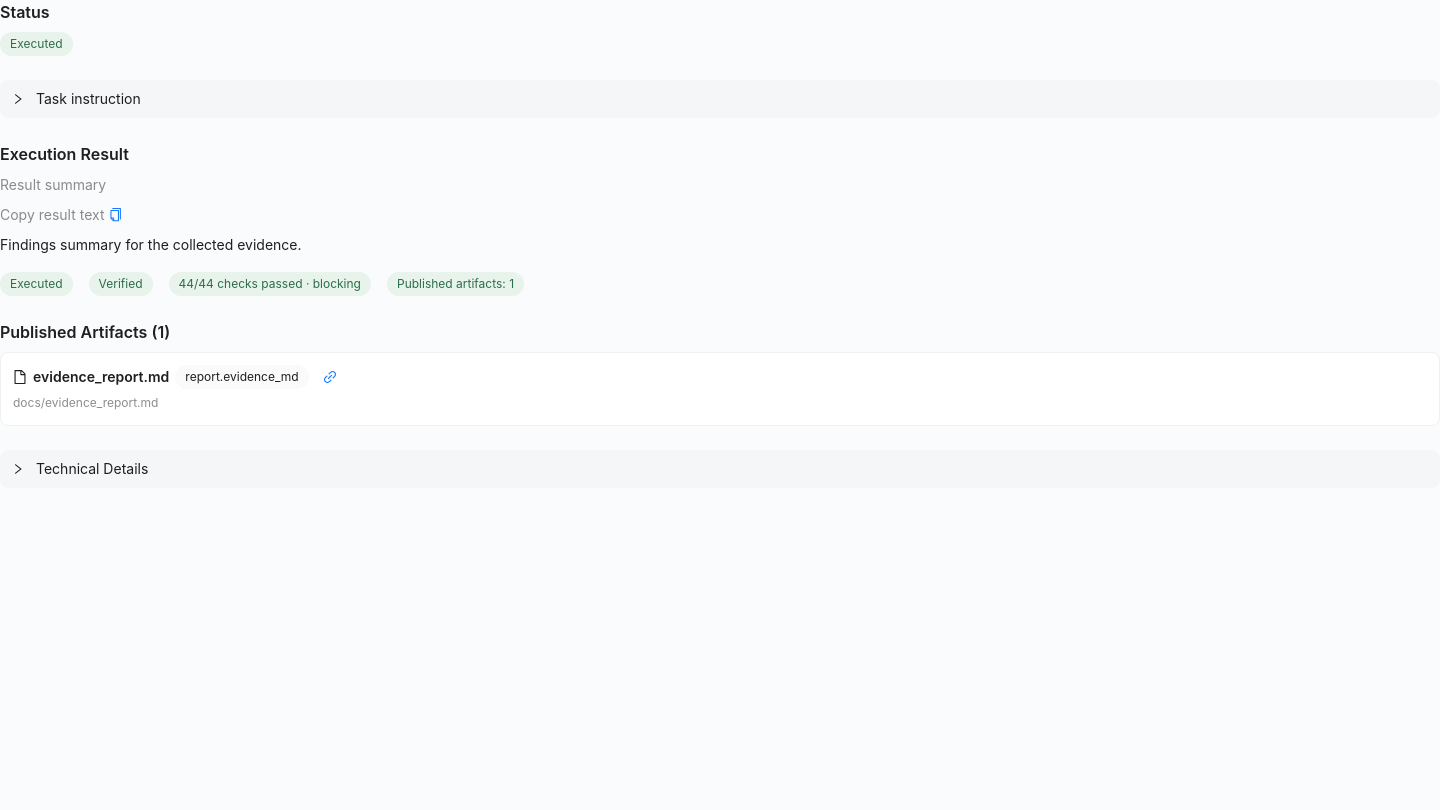
Test: TaskDrawerContent › opens an in-drawer preview modal when clicking an artifact card
Click the text "evidence_report.md".
click(101, 377)  # box [33,368,169,385]
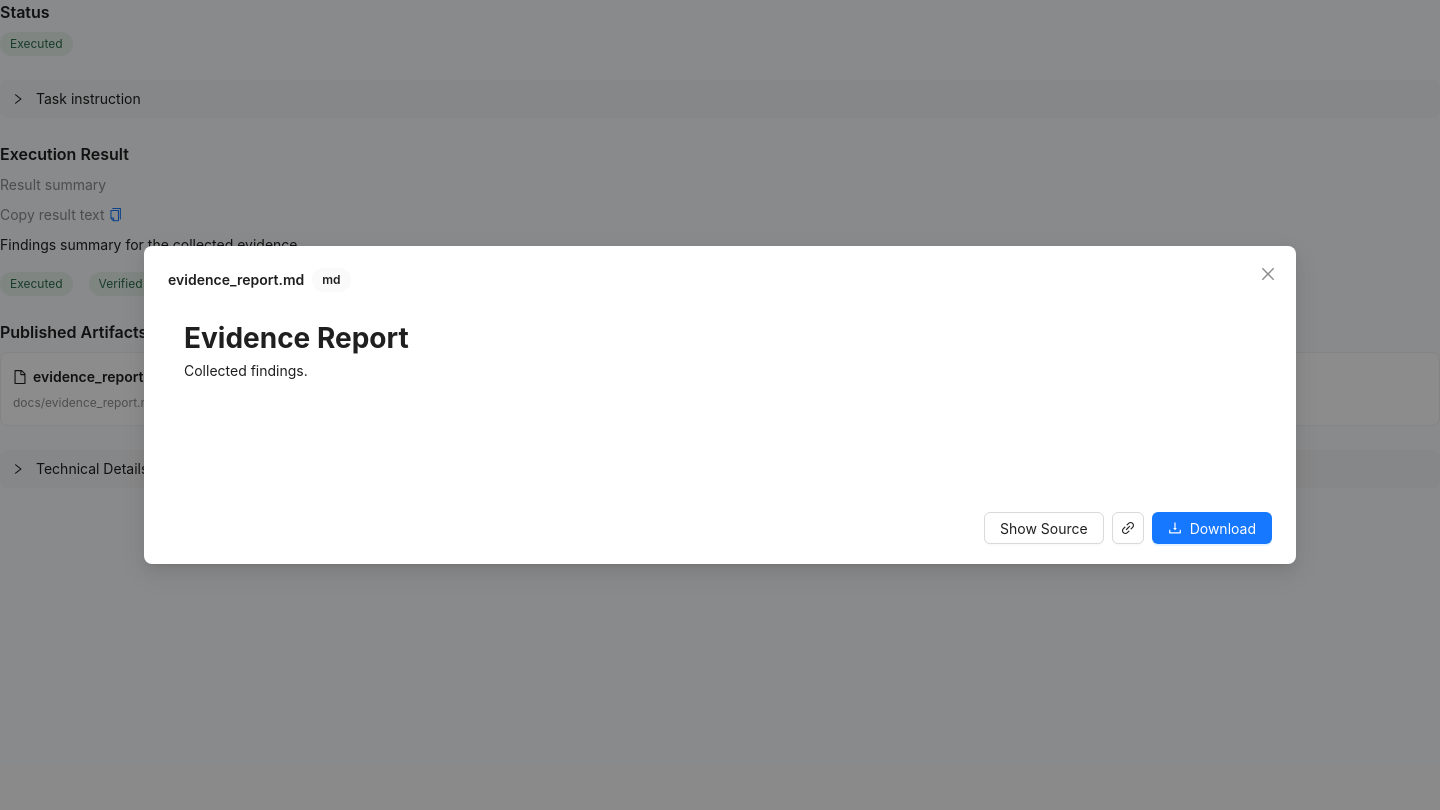
Expected: the text "evidence_report.md" is shown, [168,271,304,288]
Expected: the button "Download" is shown, [1152,512,1272,544]
Closing the modal returns to the drawer without navigation.
Click the button named "Close".
click(1268, 274)  # box [1252,258,1284,290]
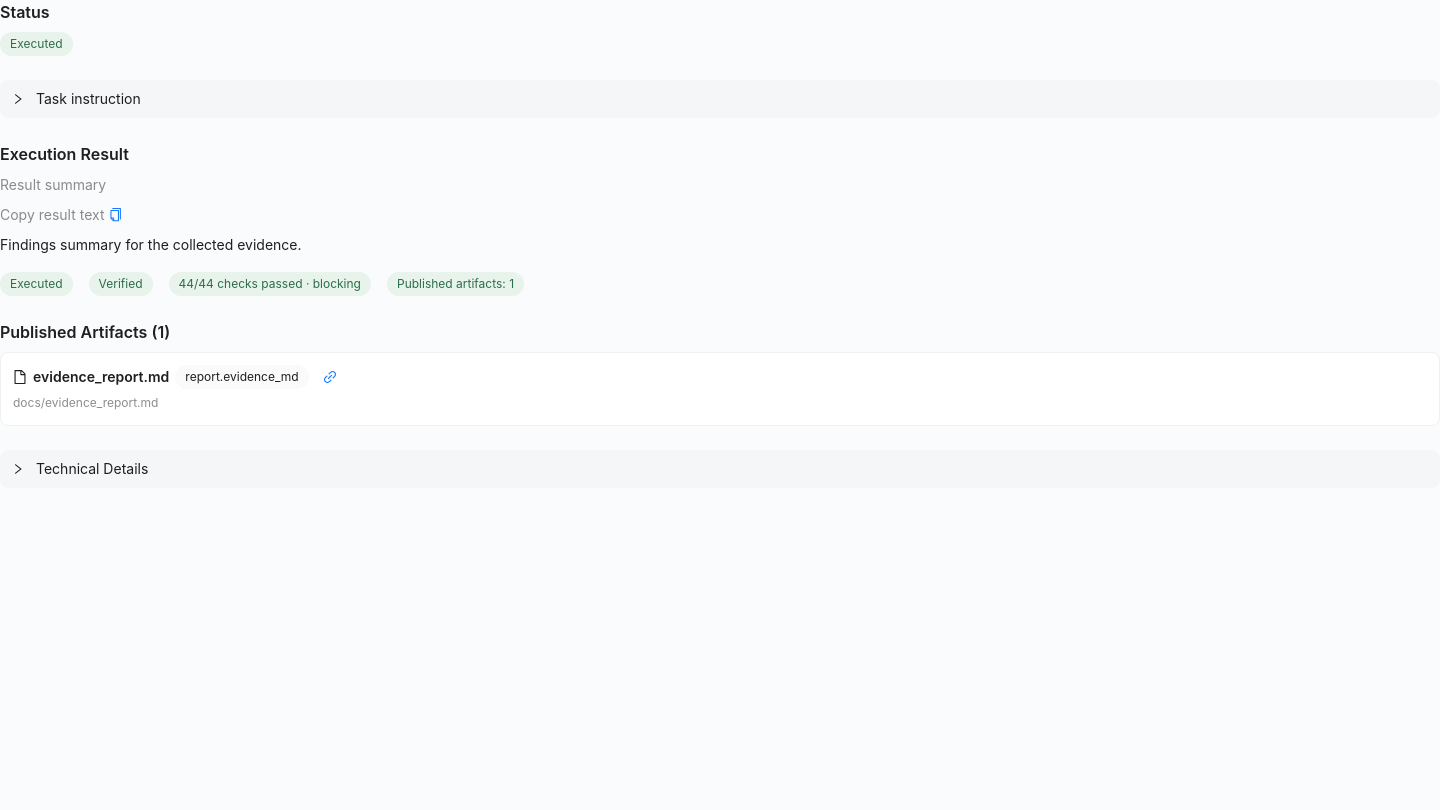
Expected: the heading "Published Artifacts (1)" is shown, [0,322,170,342]
Expected: the dialog is gone
